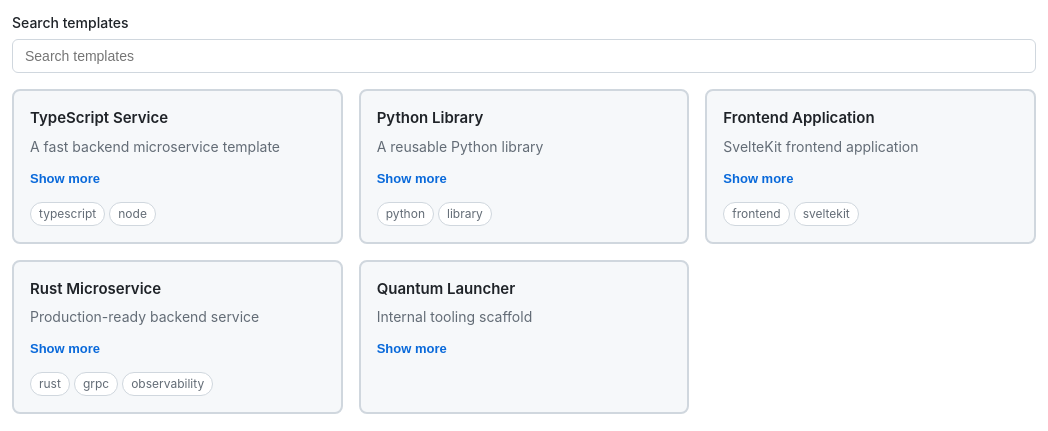
Scenario: TemplateGrid (CMP-005) › shows a "No templates match" message with role="status" when search finds nothing
Type "zzznomatch" into the search field at (524, 56), box x1=12 y1=39 x2=1036 y2=73
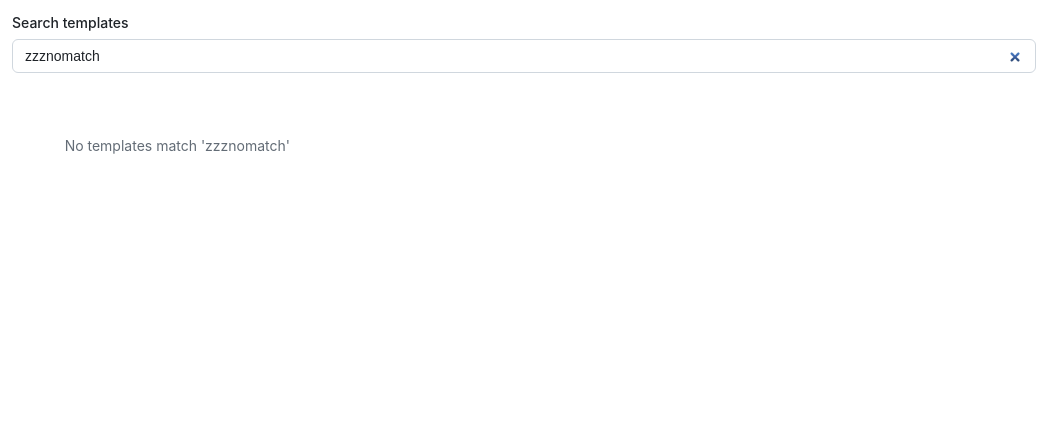
Expected: the message reads "No templates match 'zzznomatch'", x1=65 y1=137 x2=290 y2=154
